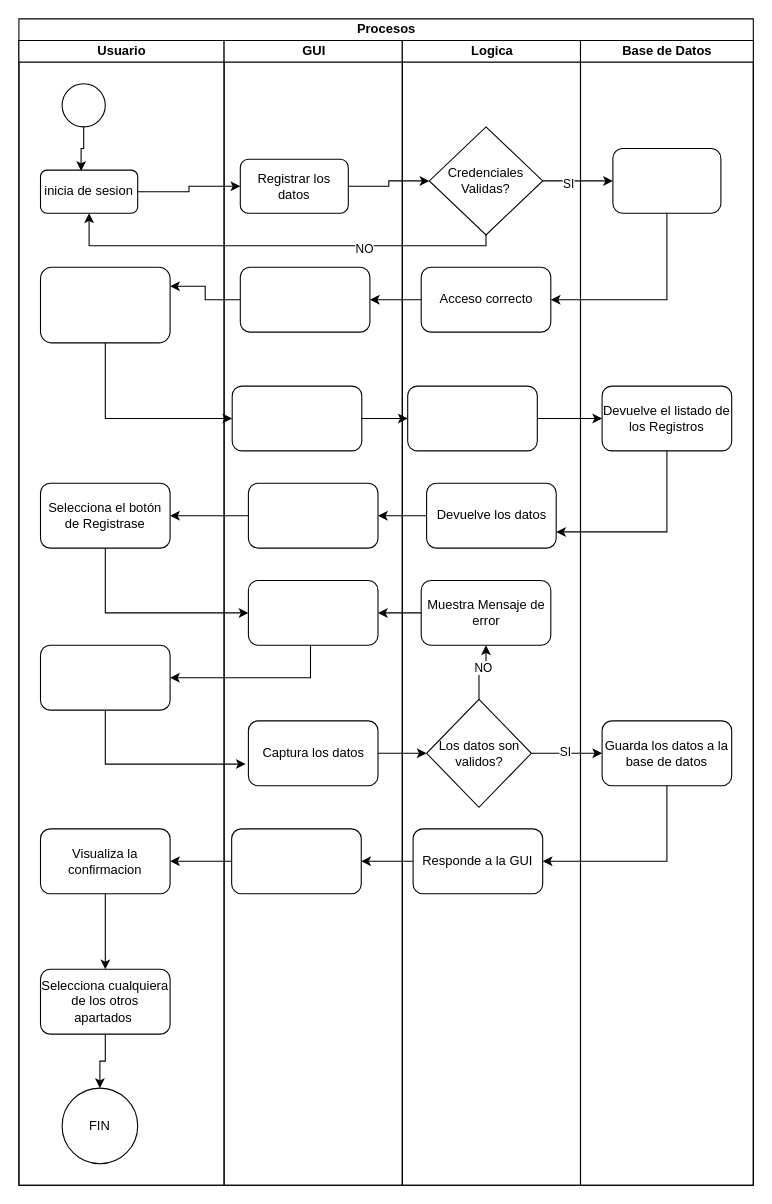
Image size: 772x1204. Some labels were removed from this diagram. Each missing label, with the centre of its shape:
"Almacena los datos" belongs at pixel 666 180.
"Inicio" belongs at pixel 83 105.
"Llena el formulario con los datos que solicita" belongs at pixel 104 677.
"Mostrar Listado de Registro" belongs at pixel 312 515.
"Mostrar Pagina de Inicio" belongs at pixel 304 299.
"Muestra formulario de Inscripción" belongs at pixel 312 612.
"Muestra mensaje de confirmacion" belongs at pixel 296 861.
"Recibe la solicitud" belongs at pixel 472 418.
"Selecciona la opcion de Registrarse en la clase" belongs at pixel 104 304.
"Solicita el permiso para entrar a la opcion" belongs at pixel 296 418.
